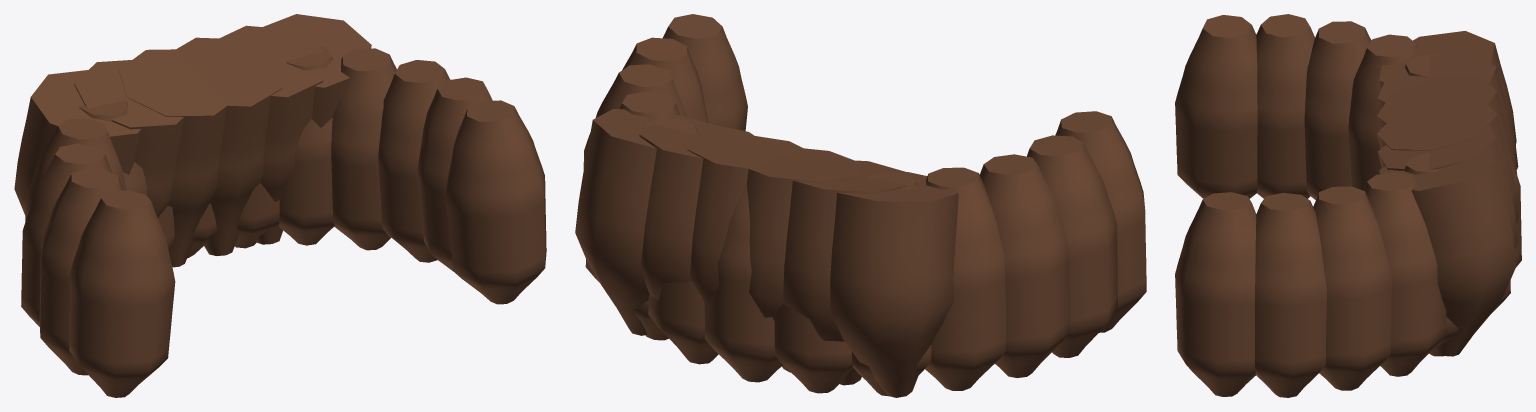
The model's file is hair_hime_sway.glb.
The picture shows the model from 3 angles, left to right: view 1: azimuth 30°, elevation 25°; view 2: azimuth 150°, elevation 25°; view 3: azimuth 270°, elevation 25°; orthographic projection. The views are drawn at different scales.
Visible parts, largest first — view 1: lock; view 2: lock; view 3: lock.
Boxes of the visible parts, x1=… form: lock: x1=14, y1=14, x2=546, y2=397; lock: x1=575, y1=14, x2=1146, y2=397; lock: x1=1175, y1=14, x2=1521, y2=397.
Bounding box in the file's own units: 2.59 × 1.06 × 1.69.
